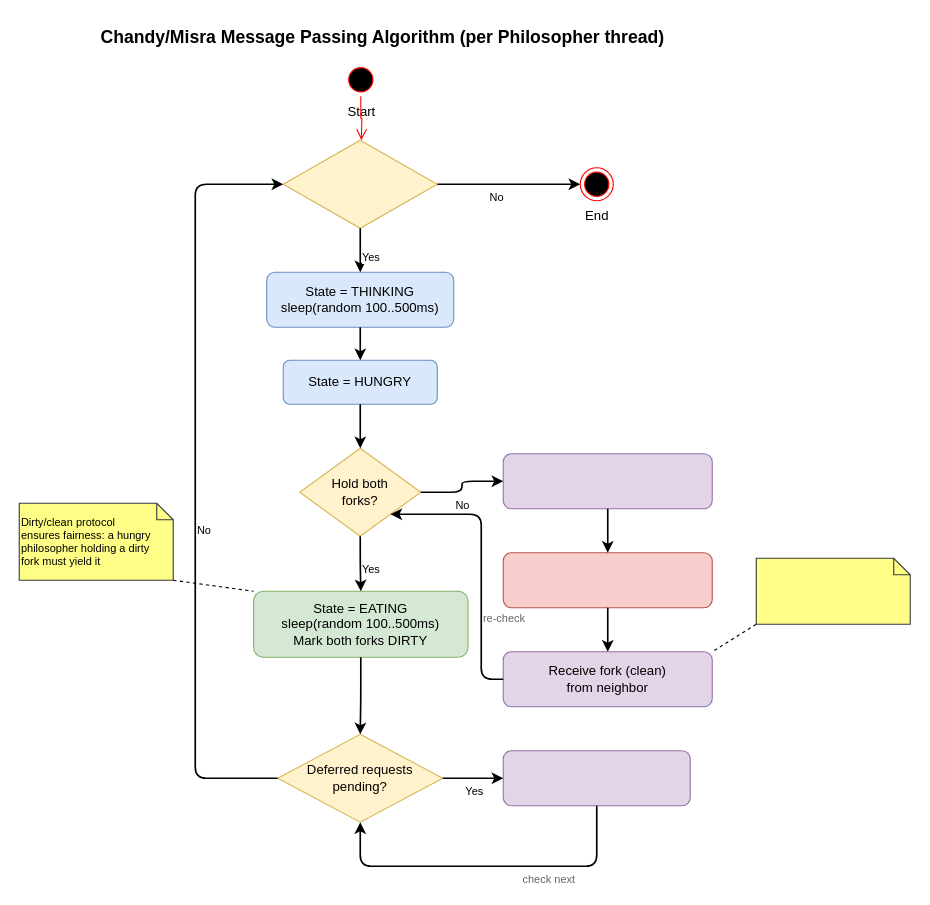
Image size: 930x905. Some labels were removed from this diagram. The box of each missing label's shape, as (x1, y1, x2, y2) in pixels:
Block on reply queue waiting for fork: (502, 552, 712, 608)
Clean dirty fork, send to requester: (502, 750, 690, 806)
cyclesCompleted < targetCycles?: (282, 139, 437, 228)
No shared locks on forks. All coordination via BlockingQueue messages: (755, 557, 910, 624)
Send REQUEST for missing fork(s) via queue: (502, 453, 712, 509)
